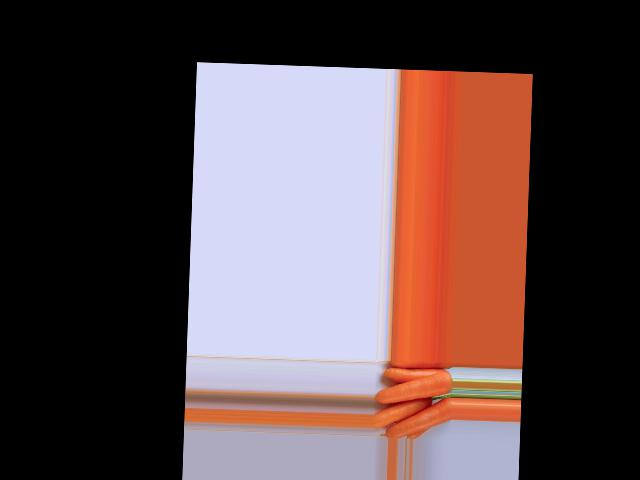carrot: (381, 362, 450, 384)
